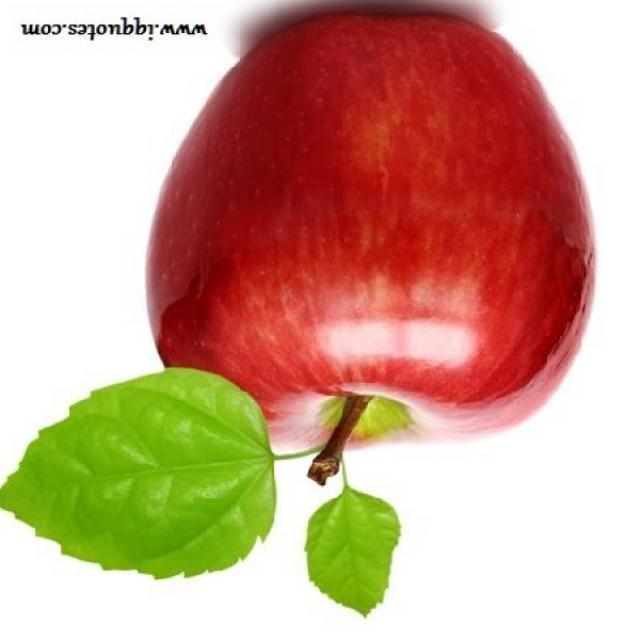organic: (142, 0, 590, 455)
